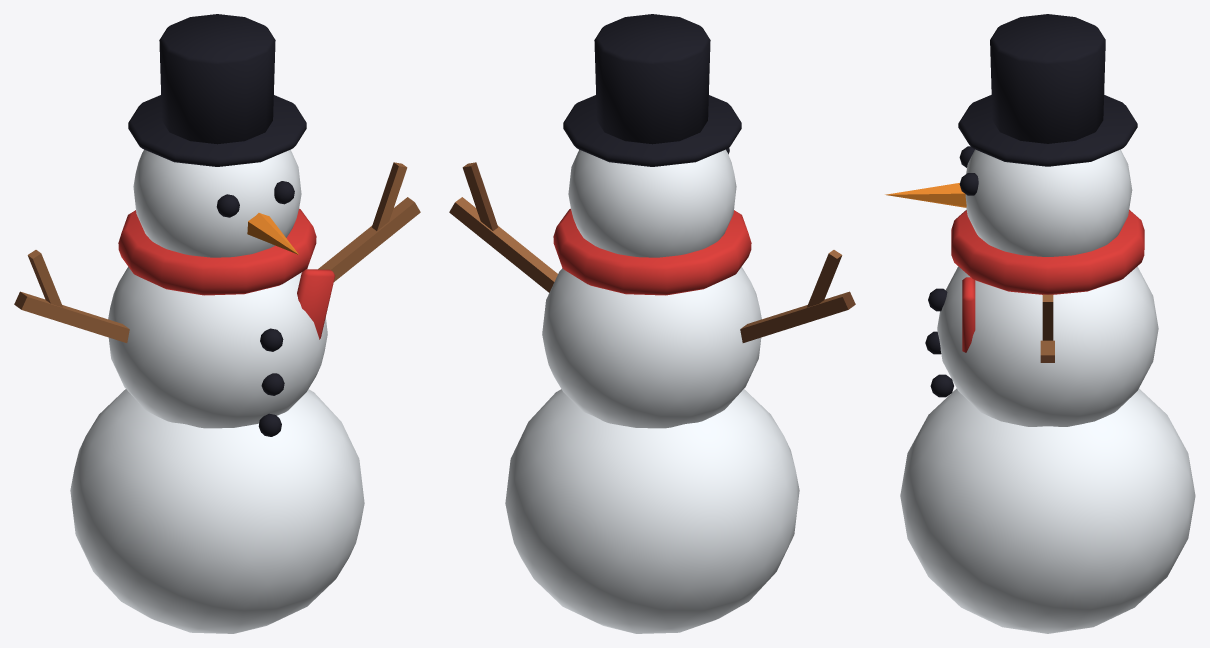
The model's file is Snowman.fbx.
The picture shows the model from 3 angles, left to right: view 1: azimuth 30°, elevation 25°; view 2: azimuth 150°, elevation 25°; view 3: azimuth 270°, elevation 25°; orthographic projection.
Parts seen in each view (by area): view 1: Snowman; view 2: Snowman; view 3: Snowman.
Part boxes in pixels (bbox=[...]): Snowman: bbox=[14, 14, 420, 633]; Snowman: bbox=[449, 14, 855, 633]; Snowman: bbox=[885, 14, 1195, 633].
Size of the model in its own units: 1.75 by 2.42 by 1.18.
1 material, 1 textured.
